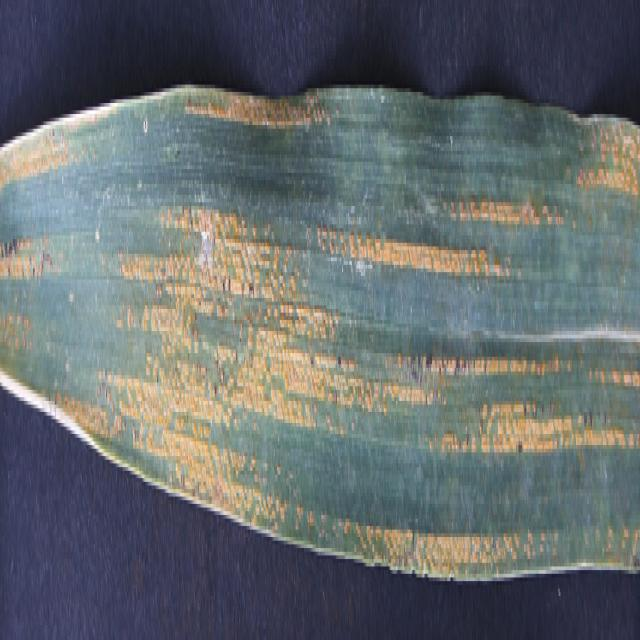leaf rust: (0, 84, 640, 588)
